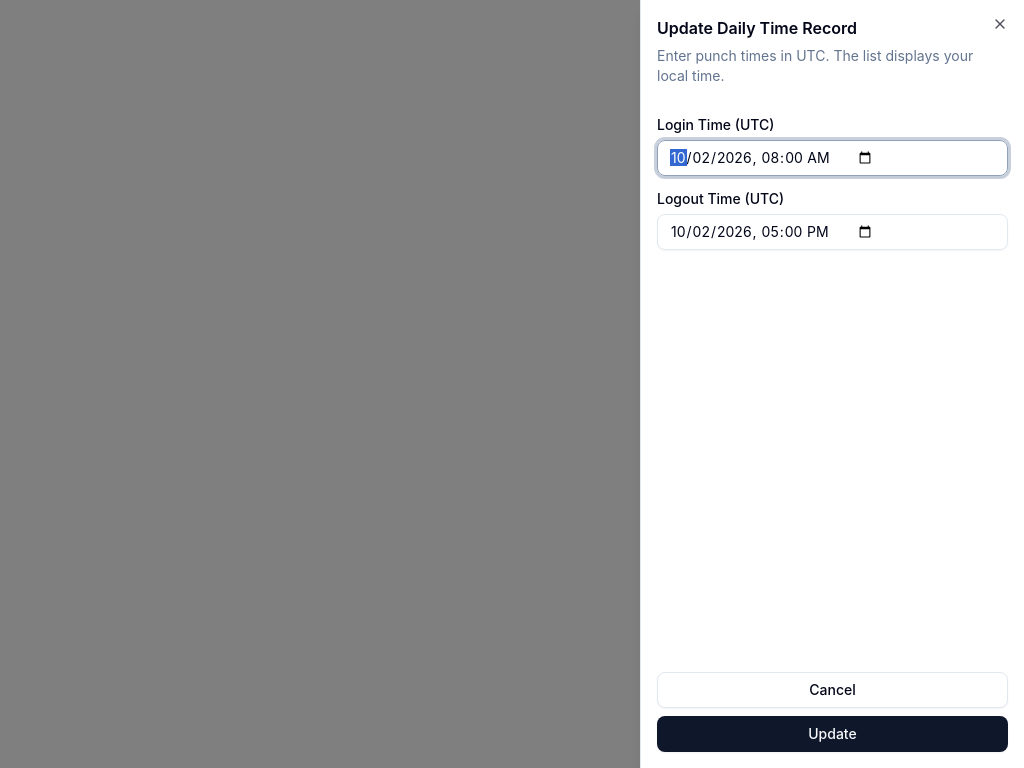
Test case: keeps an unsuccessful edit open with its server error
Click the button "Update" at {"x": 832, "y": 734}, box [657, 716, 1008, 752]
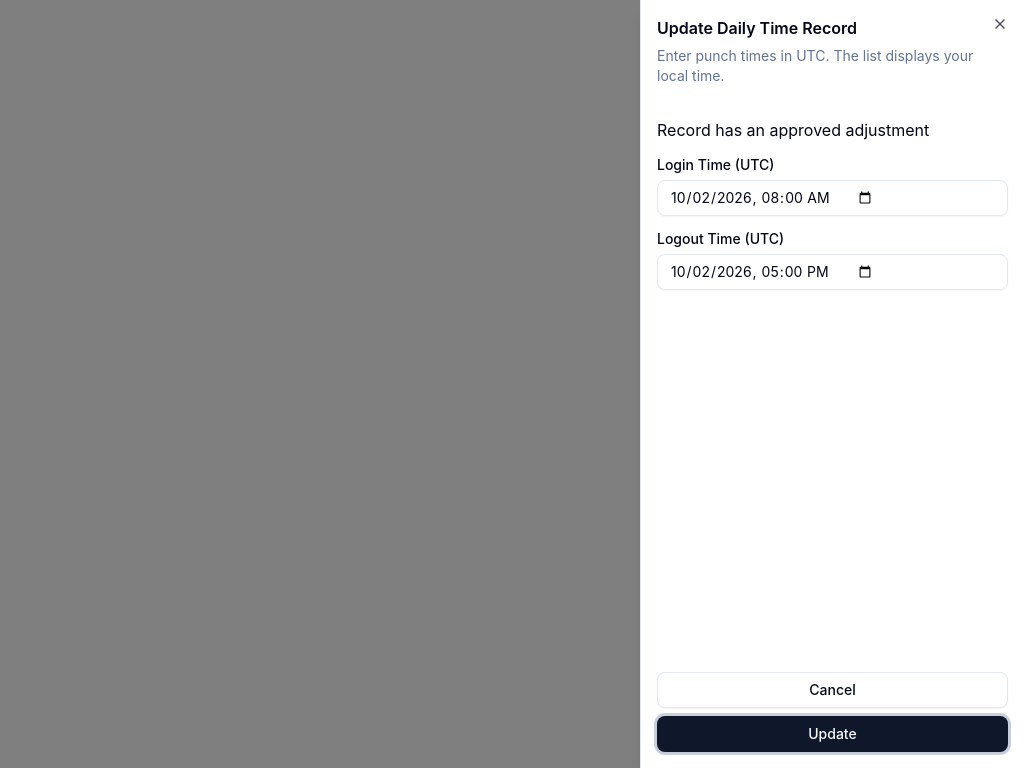
Result: the message reads "Record has an approved adjustment" at [657, 120, 929, 140]
